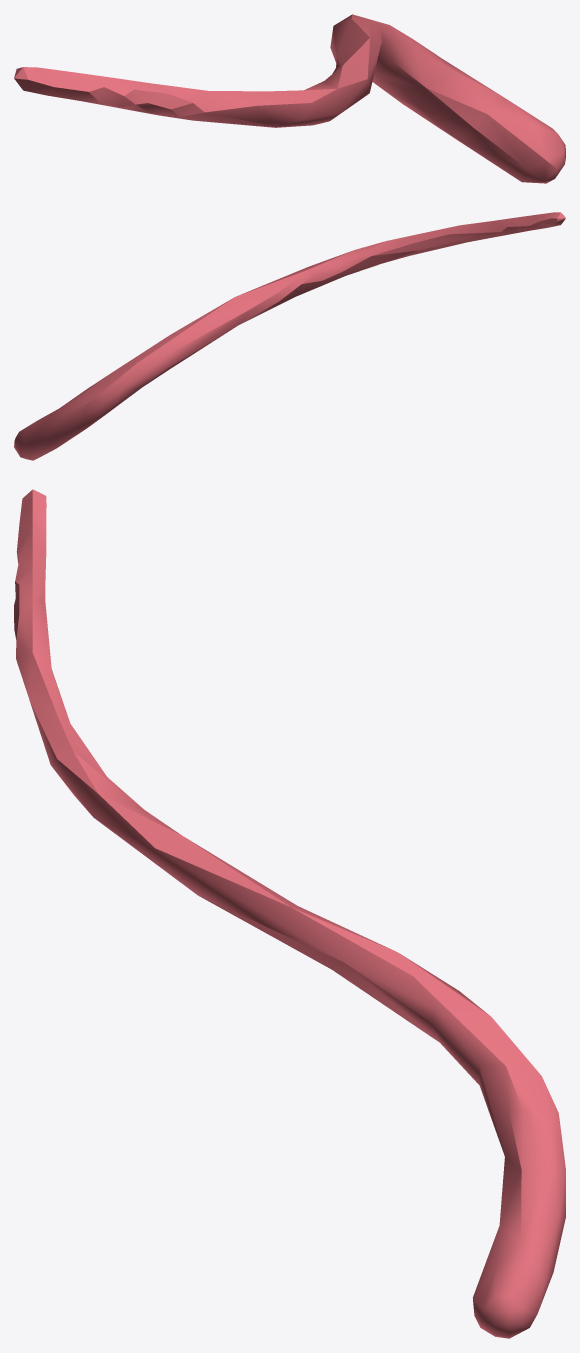
File: fma50519_fj5226.glb
The picture shows the model from 3 angles, top to bottom: view 1: azimuth 30°, elevation 25°; view 2: azimuth 150°, elevation 25°; view 3: azimuth 270°, elevation 25°; orthographic projection. The views are drawn at different scales.
Parts seen in each view (by area): view 1: FMA50519_FJ5226; view 2: FMA50519_FJ5226; view 3: FMA50519_FJ5226.
Part boxes in pixels (x1,y1,x2,y2): FMA50519_FJ5226: [14, 14, 565, 183]; FMA50519_FJ5226: [14, 212, 565, 460]; FMA50519_FJ5226: [14, 489, 565, 1338].
Size of the model in its own units: 0.0135 by 0.00772 by 0.00812.
